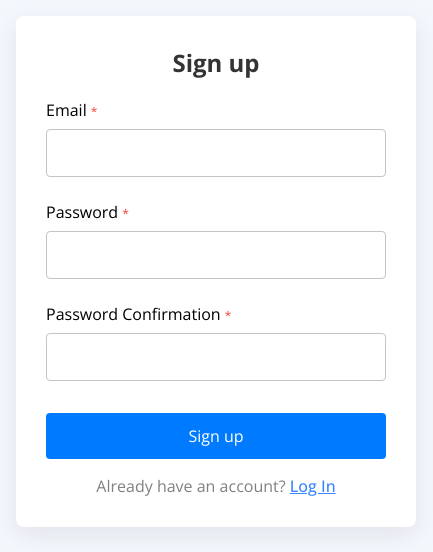
Test: Register-tests: › Cannot register when email is invalid
In the field with id "email": (216, 153) [46,129,386,177], type "testi"
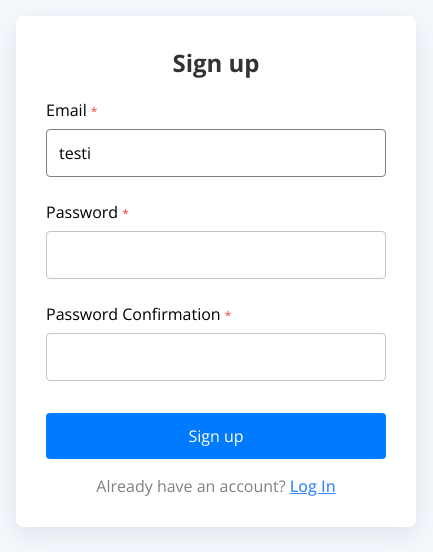
In the password field labelled "Password": (216, 255) [46,231,386,279], type "123456"
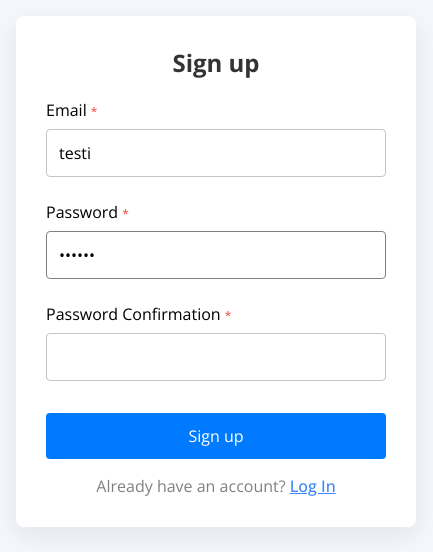
In the password field labelled "Password Confirmation": (216, 357) [46,333,386,381], type "123456"
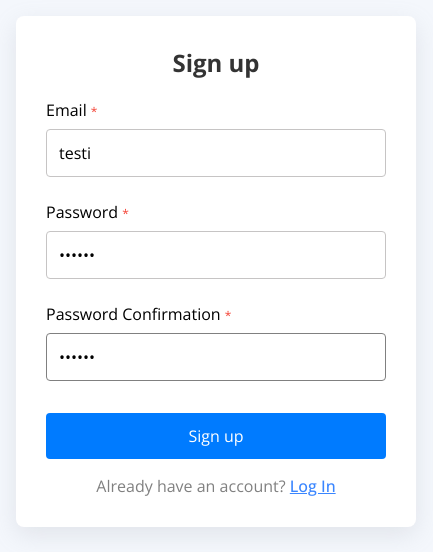
Click the button with id "register-button": (216, 436) [46,413,386,459]
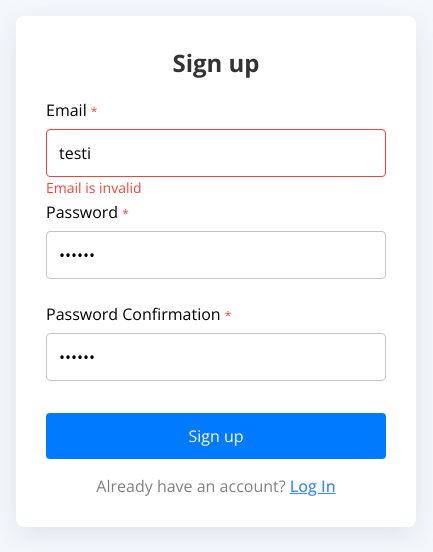
Check: the text "Email is invalid" is shown, box [46,178,142,196]
